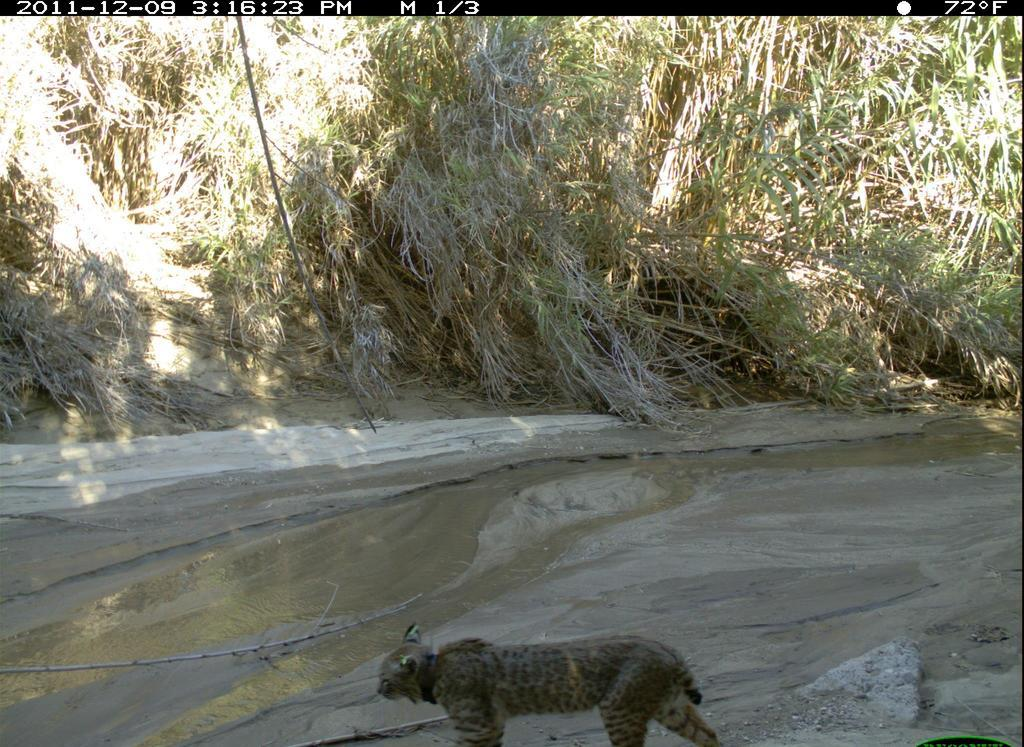bobcat: (368, 616, 731, 747)
